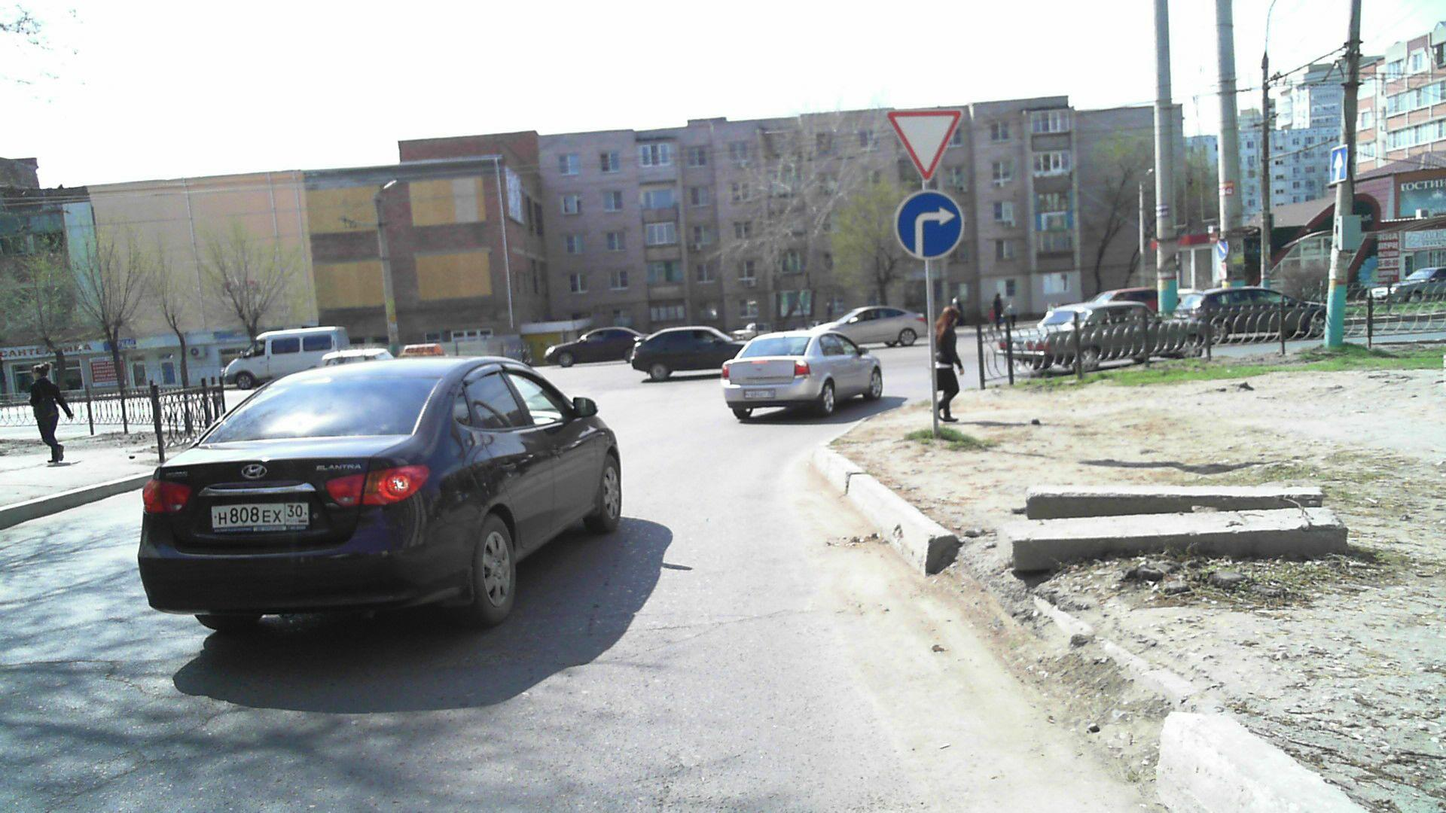road_sign: (887, 106, 965, 181), (894, 189, 965, 260), (1329, 143, 1348, 187), (1217, 239, 1228, 261)
